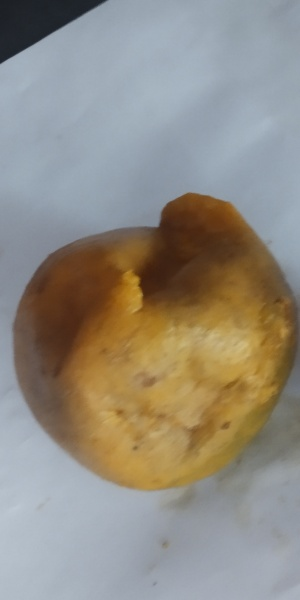BAD: (1, 193, 297, 497)
